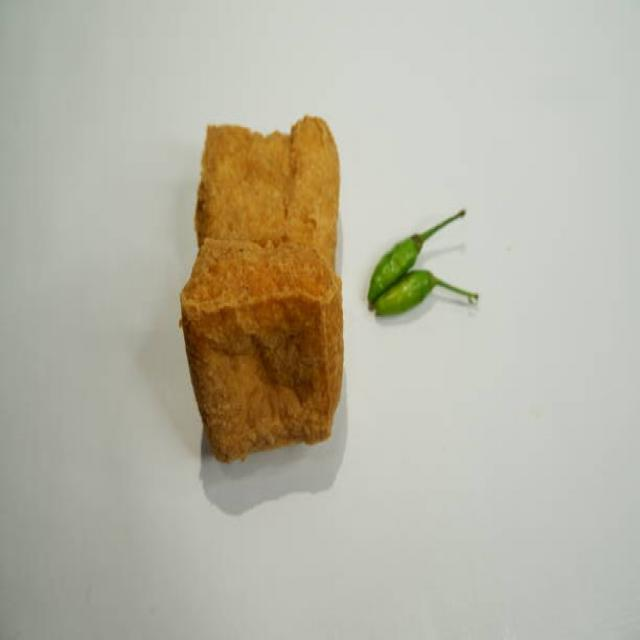tofu: (180, 232, 348, 470)
